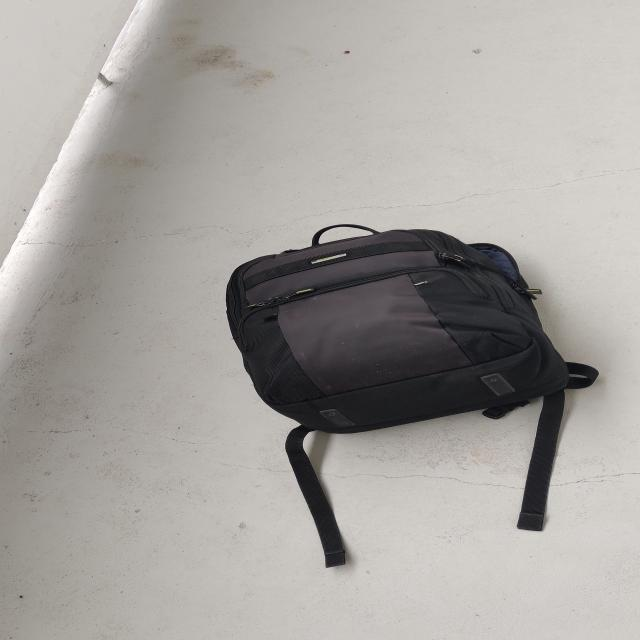backpack: (212, 219, 583, 445)
